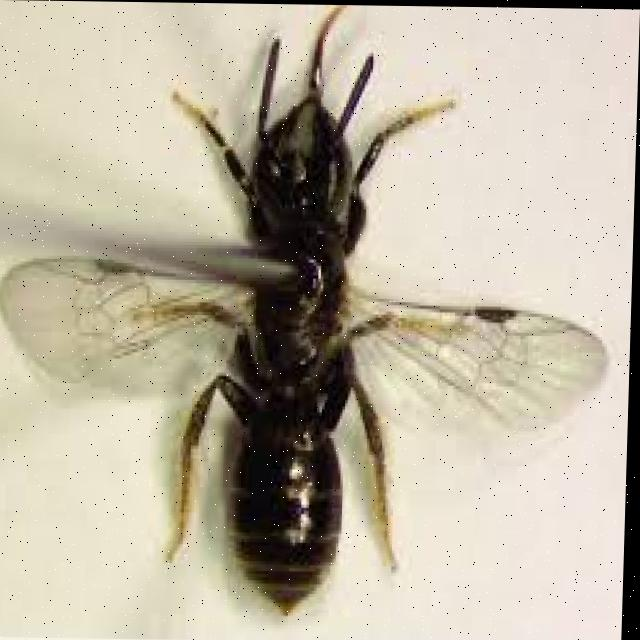Braunsapis: (8, 8, 617, 621)
